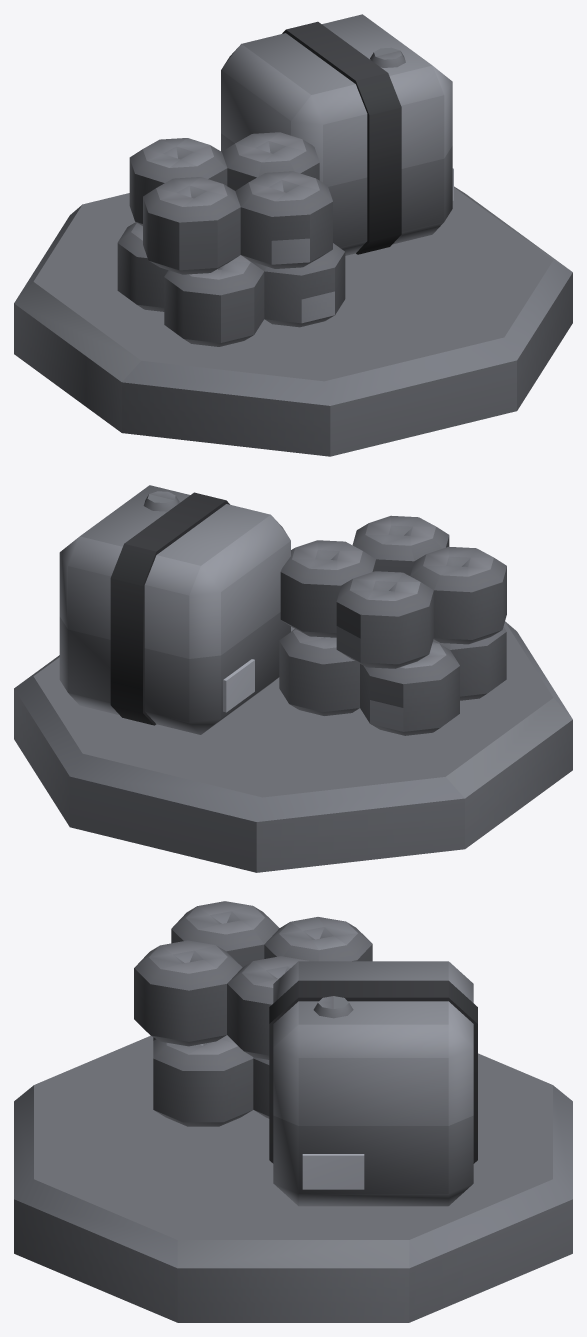
The model's file is roofmodule_cargo_A.glb.
3 views of the same model, one above another, from view 1: azimuth 30°, elevation 25°; view 2: azimuth 150°, elevation 25°; view 3: azimuth 270°, elevation 25° (orthographic). The views are drawn at different scales.
Parts seen in each view (by area): view 1: roofmodule_cargo_A; view 2: roofmodule_cargo_A; view 3: roofmodule_cargo_A.
Boxes of the visible parts, x1,y1,x2,y2 form: roofmodule_cargo_A: (14, 14, 572, 456); roofmodule_cargo_A: (14, 485, 572, 872); roofmodule_cargo_A: (14, 901, 572, 1322).
Size of the model in its own units: 1.4 by 0.72 by 1.4.
Materials: 1 (1 with a texture image).
